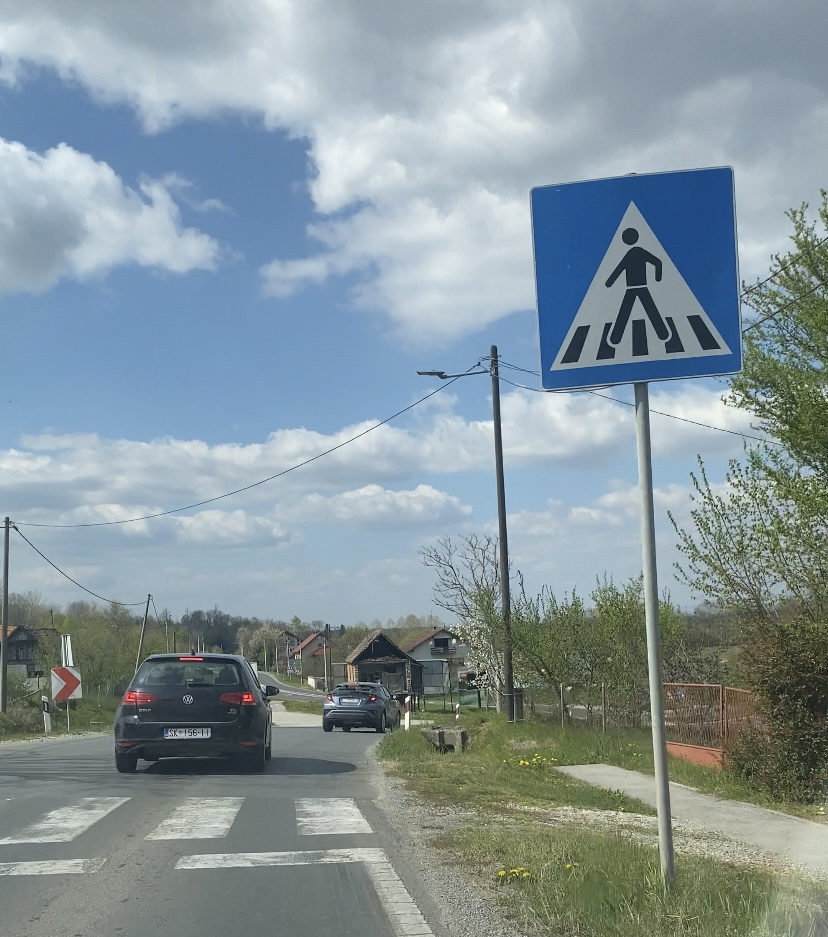Pješački prijelaz: (530, 165, 744, 391)
